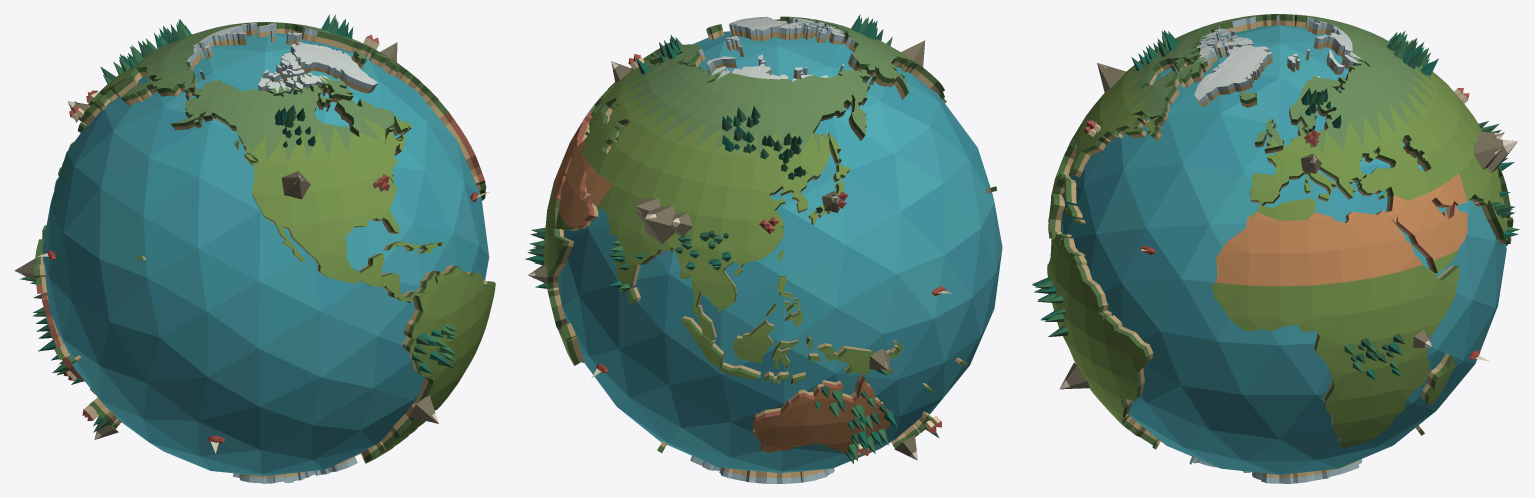
The model's file is residences.glb.
3 views of the same model, side by side, from view 1: azimuth 30°, elevation 25°; view 2: azimuth 150°, elevation 25°; view 3: azimuth 270°, elevation 25° (orthographic).
Visible parts, largest first — view 1: Residence world; view 2: Residence world; view 3: Residence world.
Part boxes in pixels (x1,y1,x2,y2): Residence world: (14,14,495,483); Residence world: (525,14,1002,483); Residence world: (1032,14,1519,483).
Bounding box in the file's own units: 2.11 × 2.07 × 2.15.
